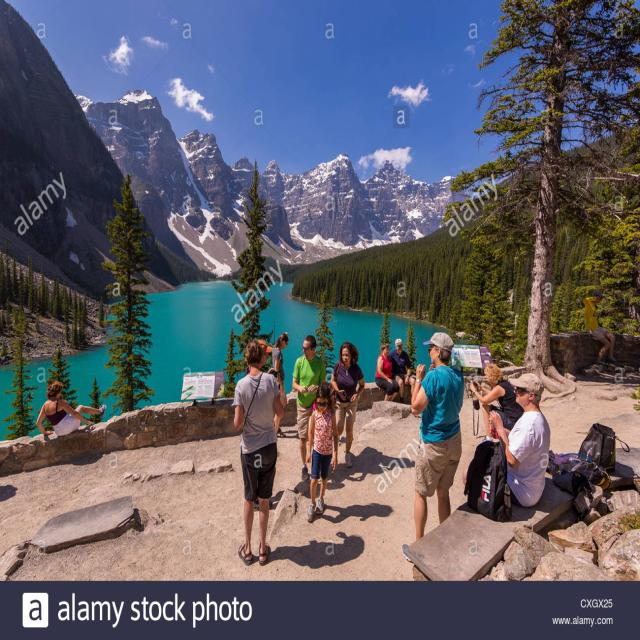body: (230, 338, 285, 567), (462, 372, 551, 509), (408, 331, 466, 538), (291, 333, 327, 482), (327, 338, 366, 469), (304, 382, 339, 523), (469, 362, 525, 447), (35, 376, 106, 436), (582, 290, 621, 368), (388, 338, 416, 406), (271, 332, 287, 438), (374, 342, 400, 402), (257, 338, 274, 370)
